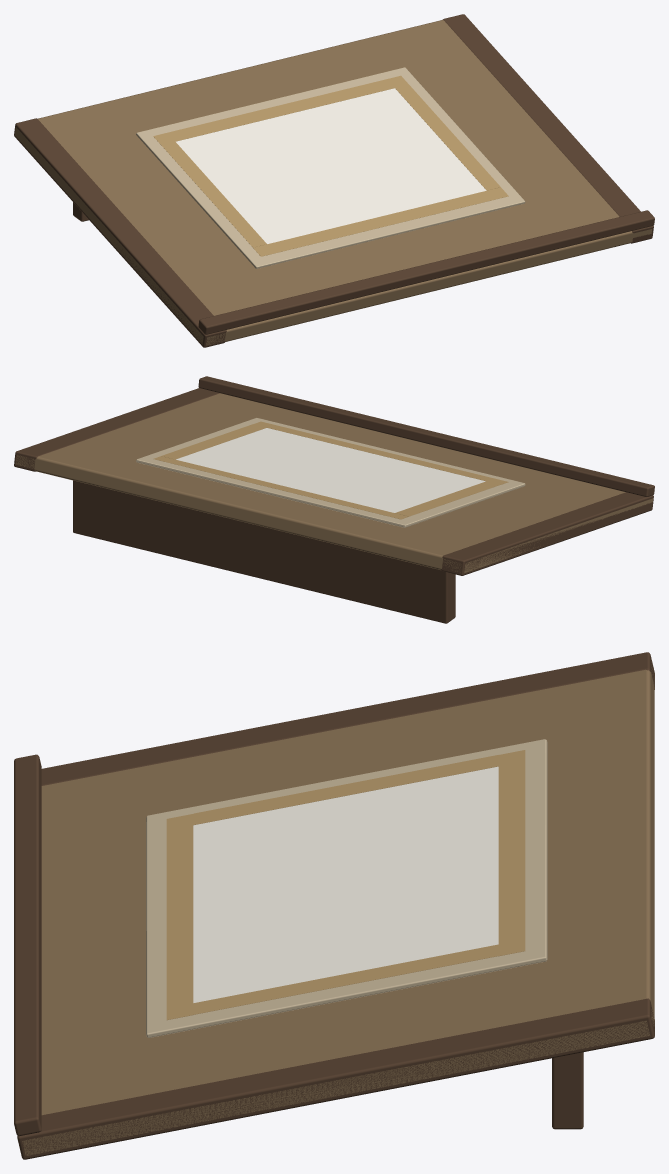
File: board.glb
The picture shows the model from 3 angles, top to bottom: view 1: azimuth 30°, elevation 25°; view 2: azimuth 150°, elevation 25°; view 3: azimuth 270°, elevation 25°; orthographic projection. The views are drawn at different scales.
Parts seen in each view (by area): view 1: Board_Slab, Panel_Sheet, Panel_Carrier, Board_Lip, Board_End_-1, Board_End_1, Panel_Tape_Bottom, Panel_Tape_Top, Panel_Tape_Left, Panel_Tape_Right; view 2: Board_Slab, Board_Prop, Panel_Sheet, Board_Lip, Board_End_-1, Panel_Carrier, Board_End_1, Panel_Tape_Top, Panel_Tape_Bottom, Panel_Tape_Right, Panel_Tape_Left; view 3: Board_Slab, Panel_Sheet, Board_End_1, Panel_Carrier, Board_End_-1, Board_Lip, Panel_Tape_Bottom, Panel_Tape_Top, Panel_Tape_Right, Panel_Tape_Left, Board_Prop.
Boxes of the visible parts, x1,y1,x2,y2 form: Board_Slab: [14, 20, 652, 345]; Panel_Sheet: [176, 88, 486, 243]; Panel_Carrier: [136, 67, 525, 268]; Board_Lip: [198, 210, 654, 334]; Board_End_-1: [14, 118, 226, 347]; Board_End_1: [442, 14, 653, 243]; Panel_Tape_Bottom: [253, 187, 508, 256]; Panel_Tape_Top: [153, 75, 408, 144]; Panel_Tape_Left: [161, 141, 266, 247]; Panel_Tape_Right: [395, 84, 500, 190]; Board_Slab: [15, 393, 653, 573]; Board_Prop: [73, 480, 455, 623]; Panel_Sheet: [176, 428, 485, 512]; Board_Lip: [198, 376, 654, 496]; Board_End_-1: [441, 492, 653, 575]; Panel_Carrier: [136, 418, 525, 527]; Board_End_1: [14, 388, 219, 471]; Panel_Tape_Top: [153, 456, 408, 519]; Panel_Tape_Bottom: [253, 421, 508, 484]; Panel_Tape_Right: [161, 424, 266, 459]; Panel_Tape_Left: [395, 481, 500, 516]; Board_Slab: [22, 659, 654, 1155]; Panel_Sheet: [193, 766, 498, 1002]; Board_End_1: [17, 998, 654, 1159]; Panel_Carrier: [146, 739, 547, 1037]; Board_End_-1: [41, 652, 654, 785]; Board_Lip: [14, 754, 41, 1136]; Panel_Tape_Bottom: [166, 814, 193, 1020]; Panel_Tape_Top: [498, 750, 525, 956]; Panel_Tape_Right: [193, 944, 498, 1014]; Panel_Tape_Left: [193, 755, 498, 825]; Board_Prop: [552, 1052, 583, 1129].
Bounding box in the file's own units: 0.6 × 0.1113 × 0.4457.
